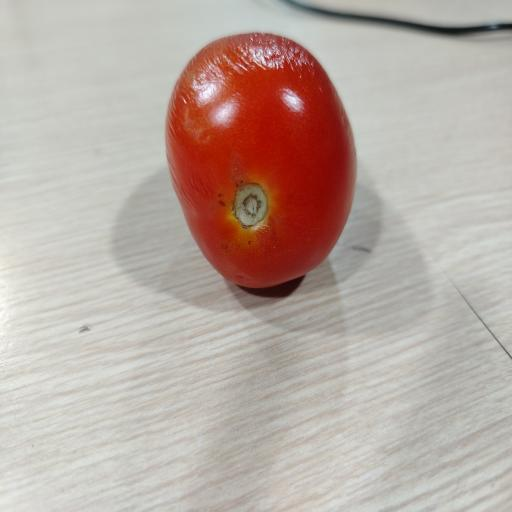spoiled: (166, 33, 356, 287)
